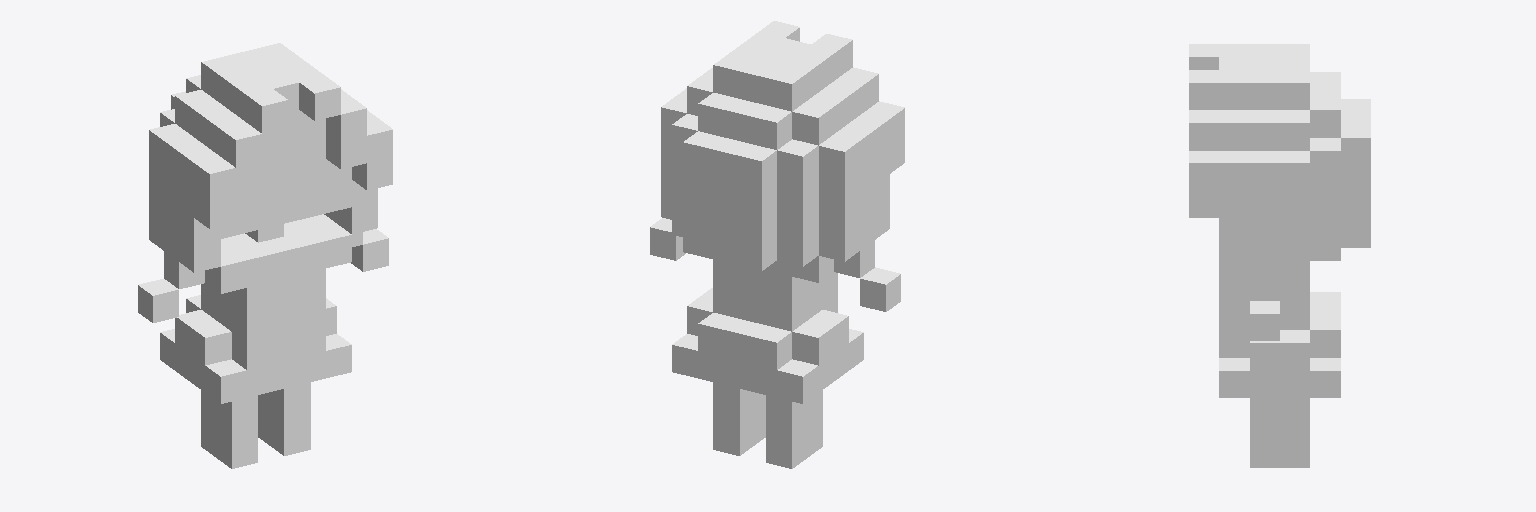
Rendered from 플레이어.obj.
3 renders of one model, left to right at view 1: azimuth 30°, elevation 25°; view 2: azimuth 150°, elevation 25°; view 3: azimuth 270°, elevation 25°, orthographic.
Parts seen in each view (by area): view 1: object 1; view 2: object 1; view 3: object 1.
Boxes of the visible parts, box(x1,y1,x2,y2) form: object 1: box(138, 43, 392, 468); object 1: box(650, 21, 904, 468); object 1: box(1189, 44, 1370, 467).
Size of the model in its own units: 0.9 by 1.4 by 0.6.